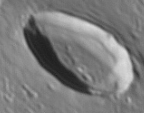crater: (17, 4, 139, 104)
